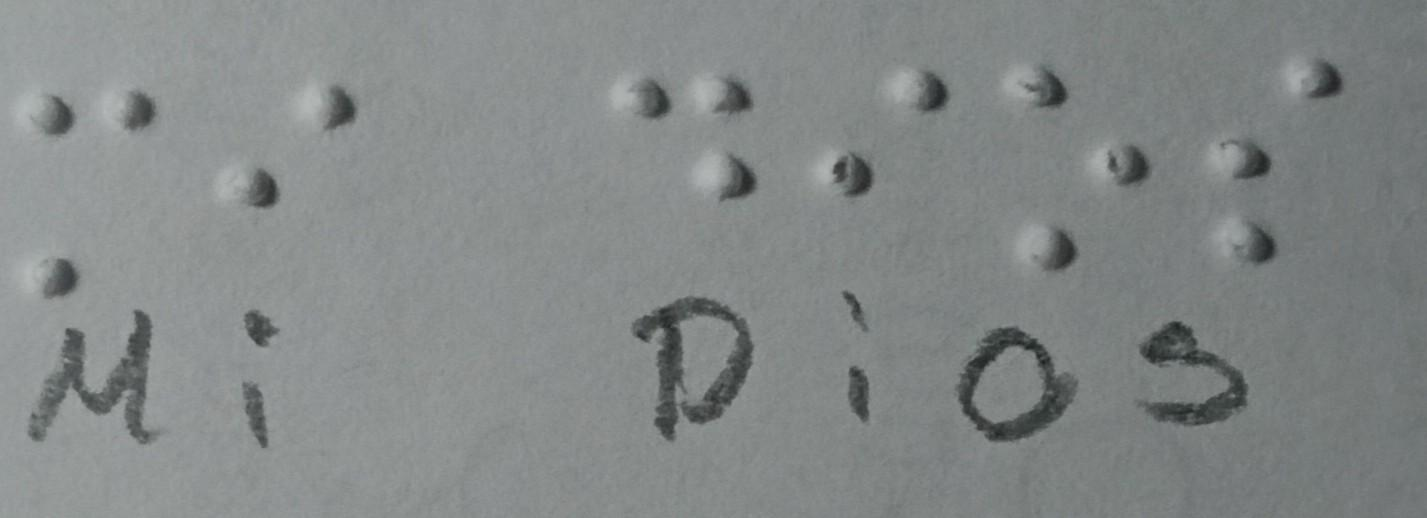d: (585, 62, 802, 238)
i: (187, 75, 370, 215), (800, 63, 957, 212)
m: (13, 75, 168, 303)
o: (962, 60, 1150, 285)
s: (1152, 38, 1400, 277)
